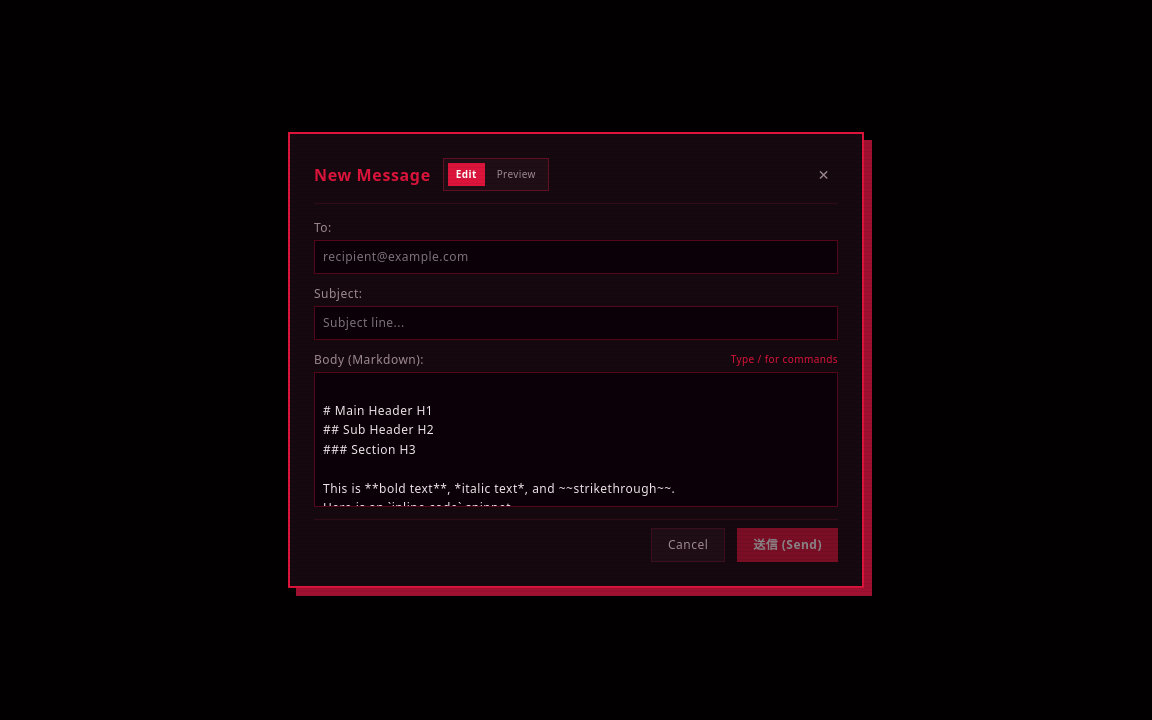
Test: MailComposeModal Stress & Boundary Tests › 1. Complex Markdown Preview & Rapid Tab Switching › renders complex markdown in preview tab without crashing or throwing errors
Click the button "Preview" at coordinates (516, 174), box left=489, top=163, right=544, bottom=186
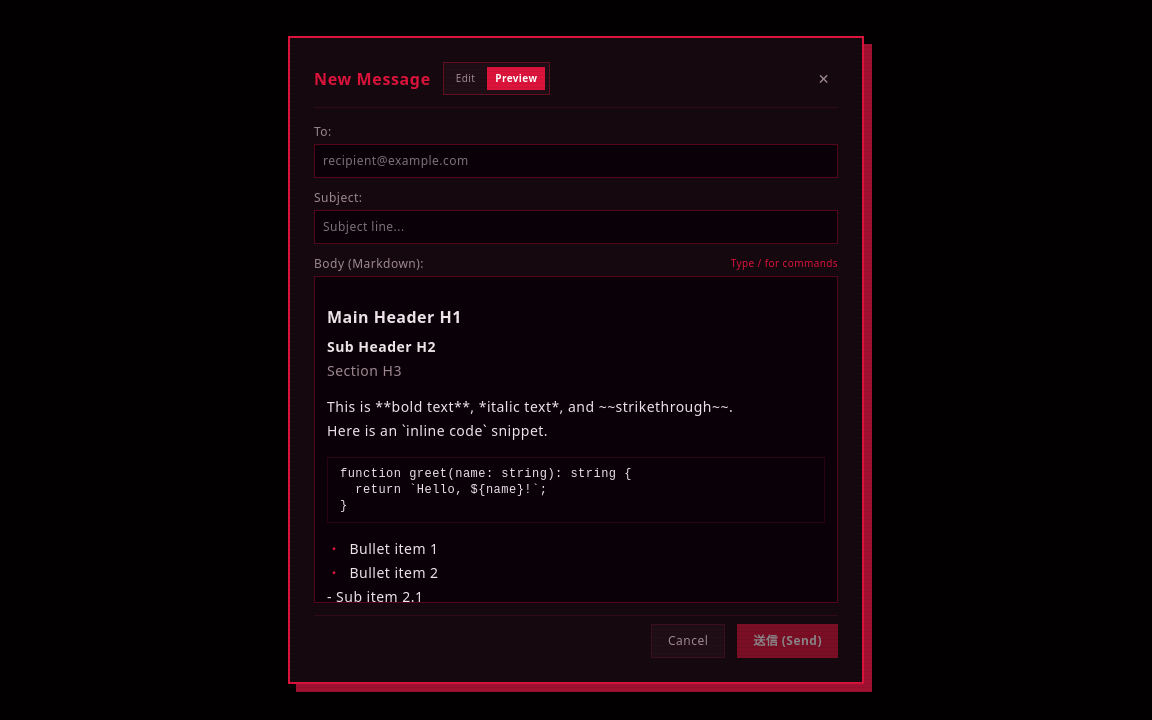
Check: the element with test id "compose-markdown-preview" is shown, box left=314, top=276, right=838, bottom=603
Check: the element with test id "compose-markdown-preview" shows "Main Header H1", box left=327, top=306, right=462, bottom=328
Check: the element with test id "compose-markdown-preview" shows "Sub Header H2", box left=327, top=337, right=436, bottom=356
